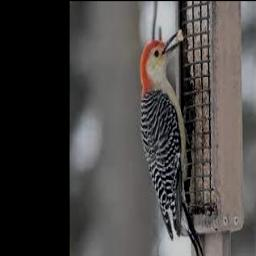Woodpecker: (141, 30, 205, 256)
